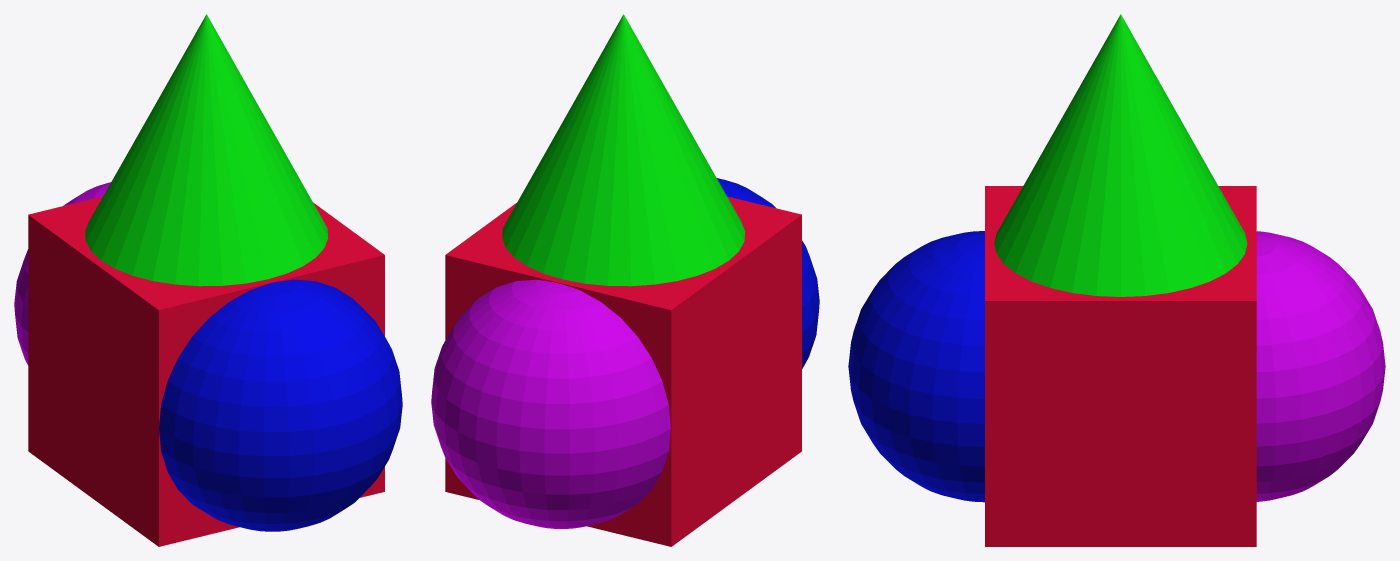
3 renders of one model, left to right at view 1: azimuth 30°, elevation 25°; view 2: azimuth 150°, elevation 25°; view 3: azimuth 270°, elevation 25°, orthographic. The views are drawn at different scales.
Parts seen in each view (by area): view 1: Sphere.001; view 2: Sphere.001; view 3: Sphere.001.
Part boxes in pixels (x1,y1,x2,y2): Sphere.001: (14,14,402,546); Sphere.001: (431,14,819,546); Sphere.001: (848,14,1385,546).
Bounding box in the file's own units: 2 × 3.87 × 3.96.
